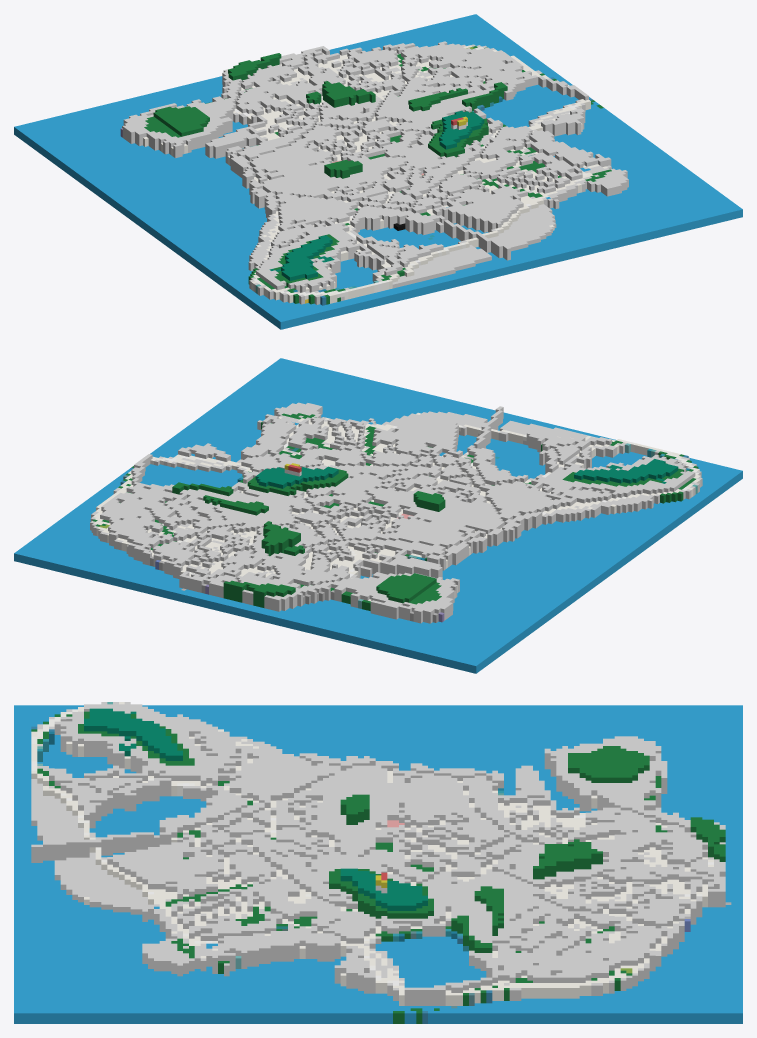
Rendered from 210515guia-2.obj.
3 views of the same model, one above another, from view 1: azimuth 30°, elevation 25°; view 2: azimuth 150°, elevation 25°; view 3: azimuth 270°, elevation 25° (orthographic). The views are drawn at different scales.
Bounding box in the file's own units: 12.5 × 0.9 × 12.5.
Materials: 1 (1 with a texture image).
